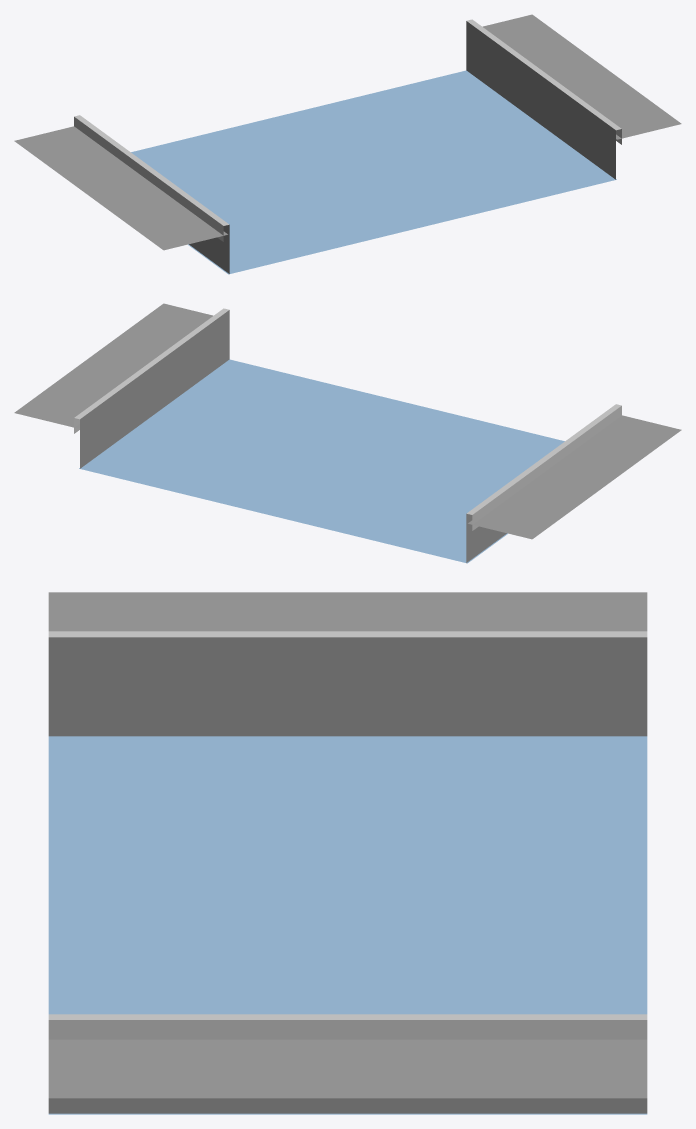
The model's file is road_tile_river_2x2_010.fbx.
3 views of the same model, one above another, from view 1: azimuth 30°, elevation 25°; view 2: azimuth 150°, elevation 25°; view 3: azimuth 270°, elevation 25° (orthographic). The views are drawn at different scales.
Parts seen in each view (by area): view 1: road_tile_river_2x2_010; view 2: road_tile_river_2x2_010; view 3: road_tile_river_2x2_010.
Part boxes in pixels (x1,y1,x2,y2): road_tile_river_2x2_010: (14,14,681,274); road_tile_river_2x2_010: (14,303,681,563); road_tile_river_2x2_010: (48,592,647,1114).
Bounding box in the file's own units: 1600 × 146 × 800.
